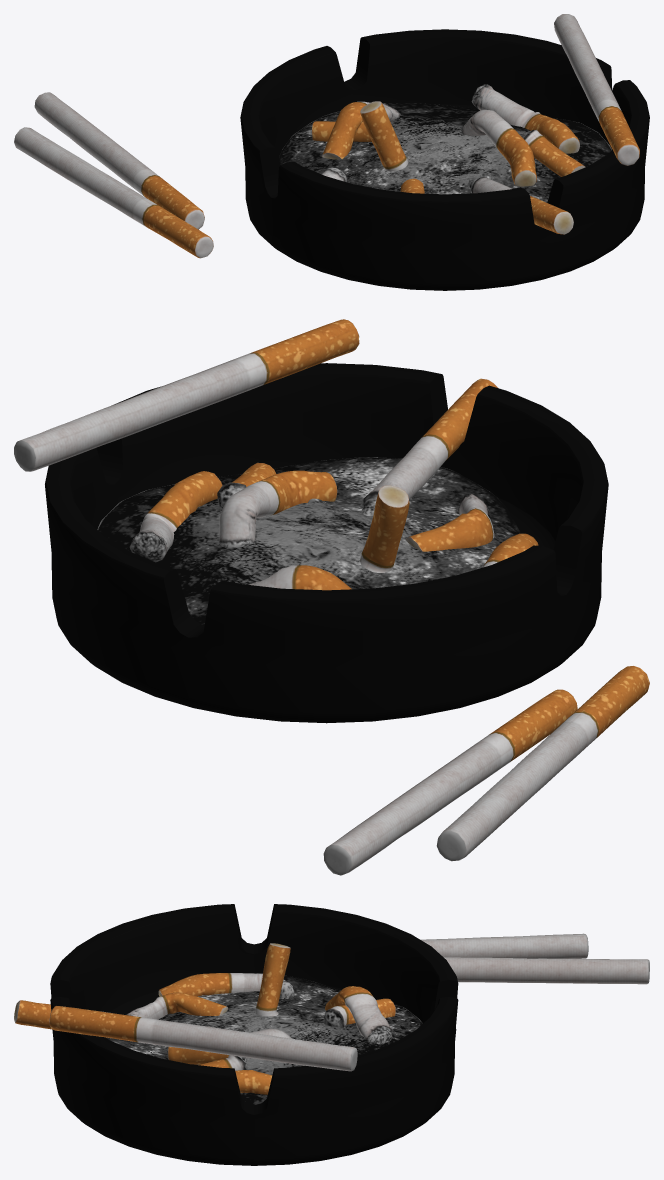
The model's file is ashtray_with_cigarettes.glb.
3 views of the same model, one above another, from view 1: azimuth 30°, elevation 25°; view 2: azimuth 150°, elevation 25°; view 3: azimuth 270°, elevation 25° (orthographic). The views are drawn at different scales.
Visible parts, largest first — view 1: Ashtray; view 2: Ashtray; view 3: Ashtray.
Part boxes in pixels (box(x1,y1,x2,y2)): Ashtray: box(14, 14, 649, 290); Ashtray: box(14, 319, 649, 875); Ashtray: box(14, 904, 649, 1165).
Bounding box in the file's own units: 0.1363 × 0.0348 × 0.1675.
1 material, 1 textured.
